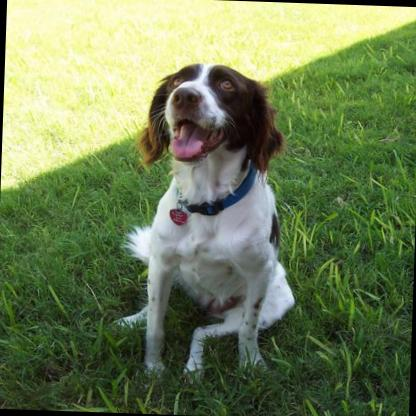Brittany_spaniel: (104, 56, 304, 382)
